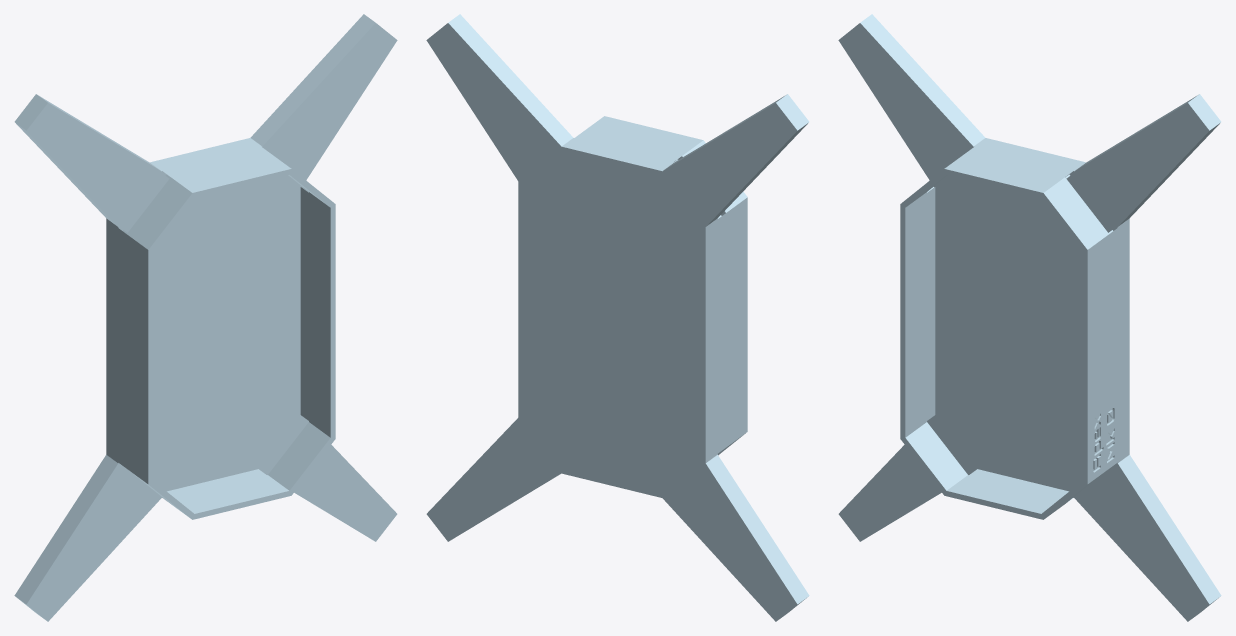
File: Apex_Mk0_Prototype.glb
3 renders of one model, left to right at view 1: azimuth 30°, elevation 25°; view 2: azimuth 150°, elevation 25°; view 3: azimuth 330°, elevation 25°, orthographic.
Parts seen in each view (by area): view 1: Part 1; view 2: Part 1; view 3: Part 1.
Boxes of the visible parts, x1,y1,x2,y2 form: Part 1: (14,14,397,621); Part 1: (426,14,809,621); Part 1: (838,14,1221,621).
Bounding box in the file's own units: 0.1782 × 0.2382 × 0.035.
